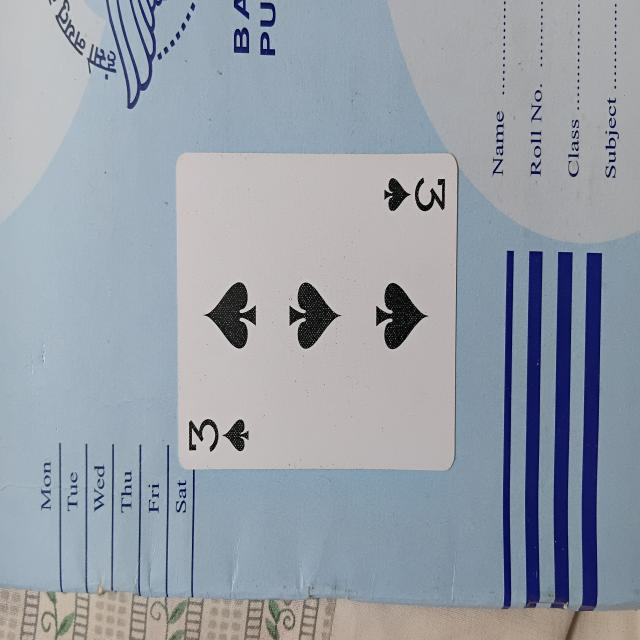3S: (178, 156, 456, 468)
